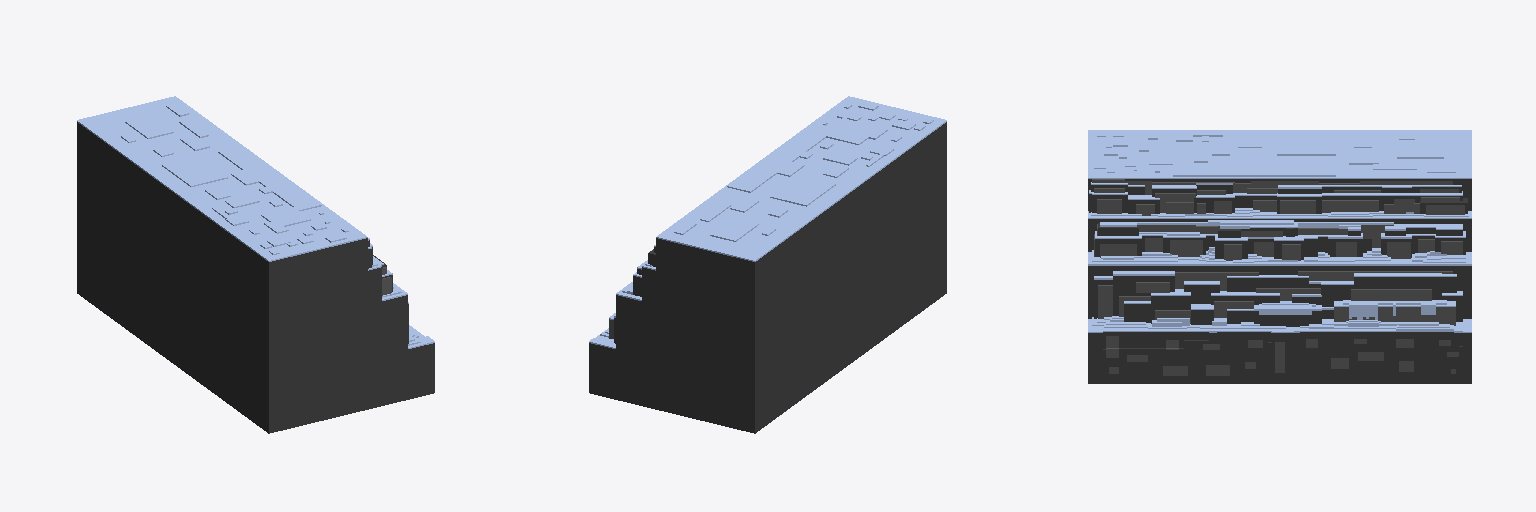
3 views of the same model, side by side, from view 1: azimuth 30°, elevation 25°; view 2: azimuth 150°, elevation 25°; view 3: azimuth 270°, elevation 25° (orthographic).
Visible parts, largest first — view 1: object 1; view 2: object 1; view 3: object 1.
Boxes of the visible parts, <box> form: object 1: <box>77,96,434,433</box>; object 1: <box>589,96,946,433</box>; object 1: <box>1088,130,1471,383</box>.
Bounding box in the file's own units: 12.8 × 12.8 × 25.6.
Materials: 1 (1 with a texture image).